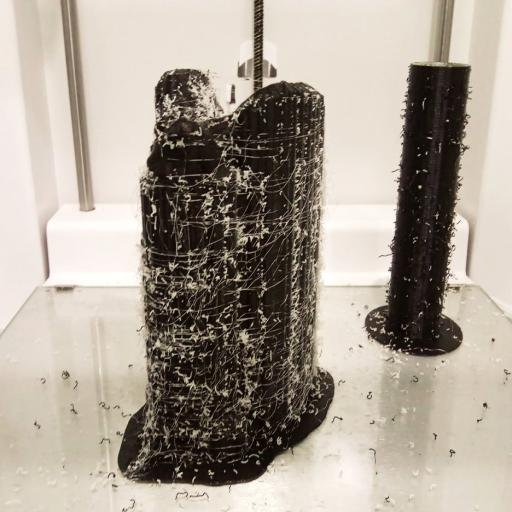stringing: (134, 70, 343, 466)
